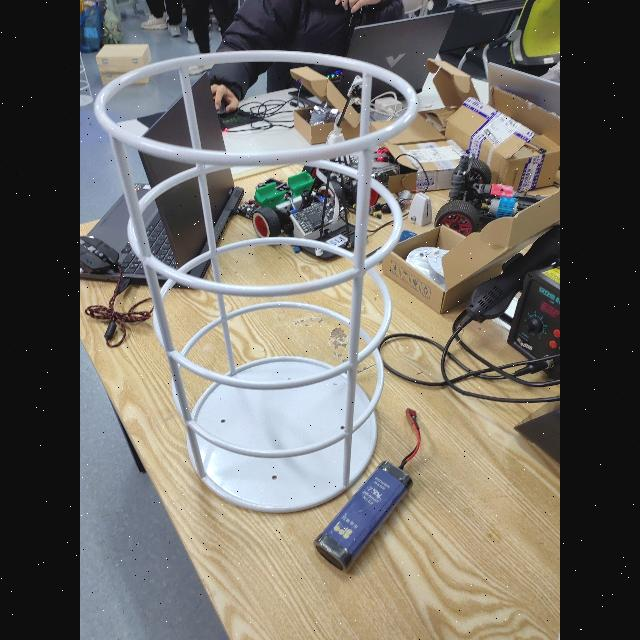S: (98, 51, 408, 514)
